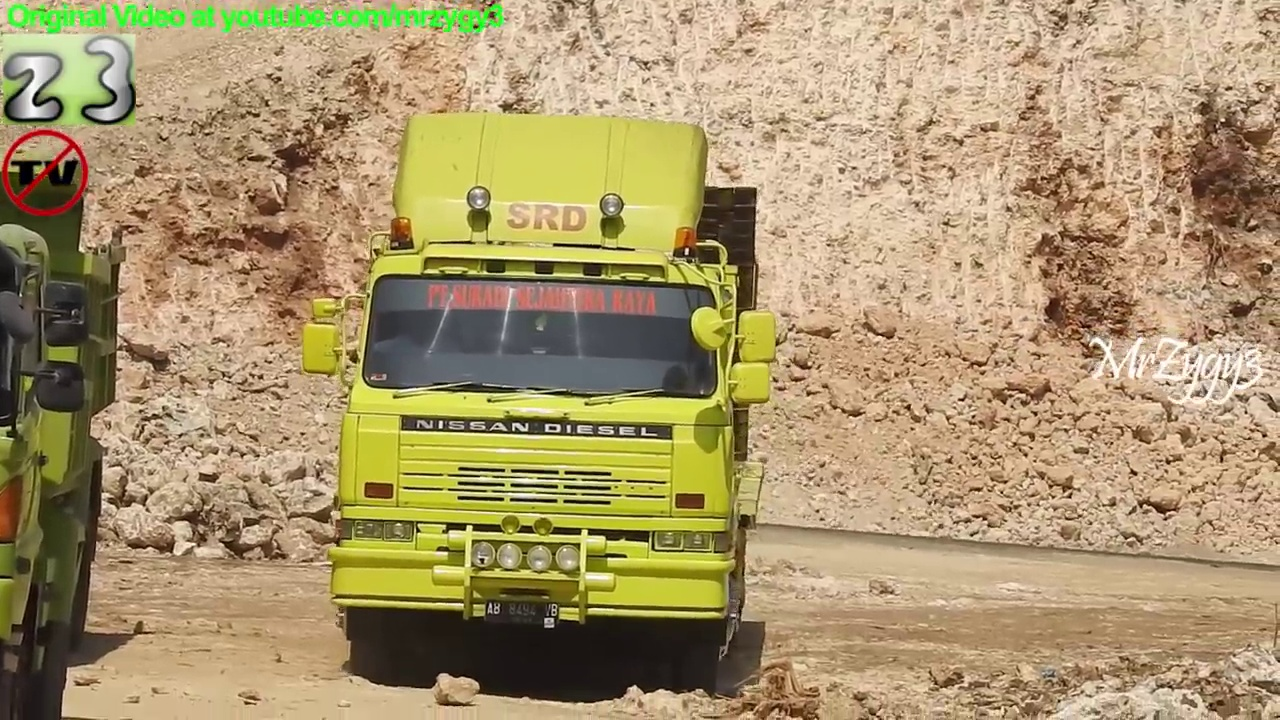truck: (295, 107, 788, 705), (1, 147, 133, 720)
